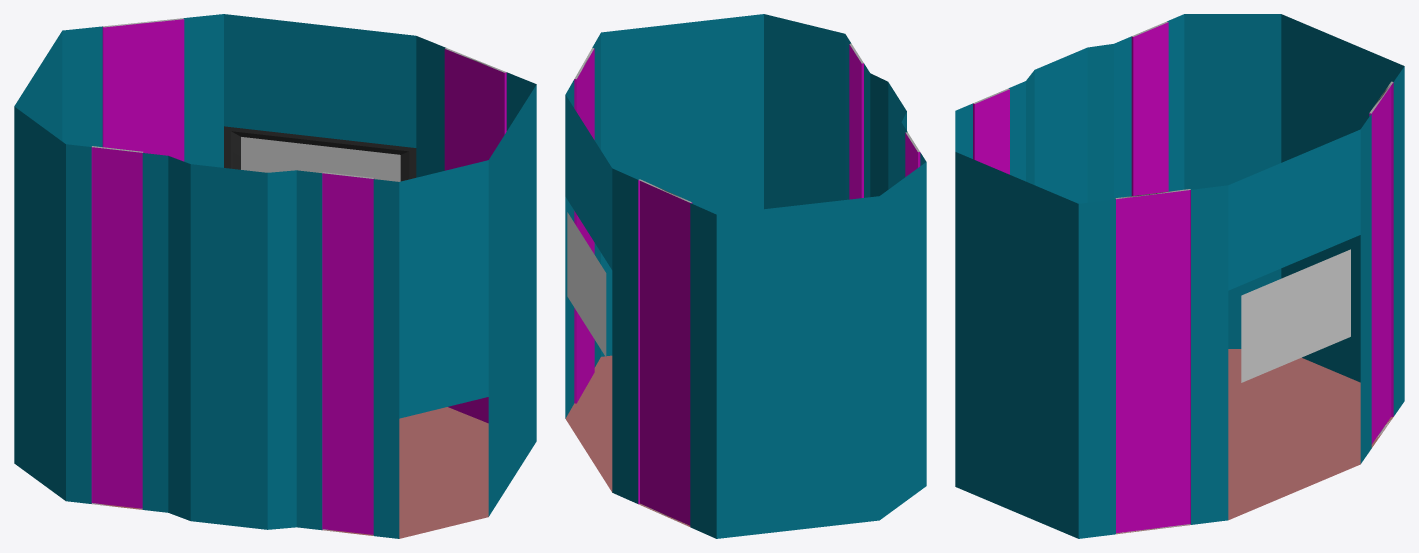
File: fbx_Hall_V1.3.fbx
3 renders of one model, left to right at view 1: azimuth 30°, elevation 25°; view 2: azimuth 150°, elevation 25°; view 3: azimuth 270°, elevation 25°, orthographic. The views are drawn at different scales.
Parts seen in each view (by area): view 1: Hall4; view 2: Hall4; view 3: Hall4.
Boxes of the visible parts, box(x1,y1,x2,y2) form: Hall4: box(14, 14, 536, 538); Hall4: box(565, 14, 926, 538); Hall4: box(955, 14, 1404, 538).
Size of the model in its own units: 1803 by 1484 by 1803.
